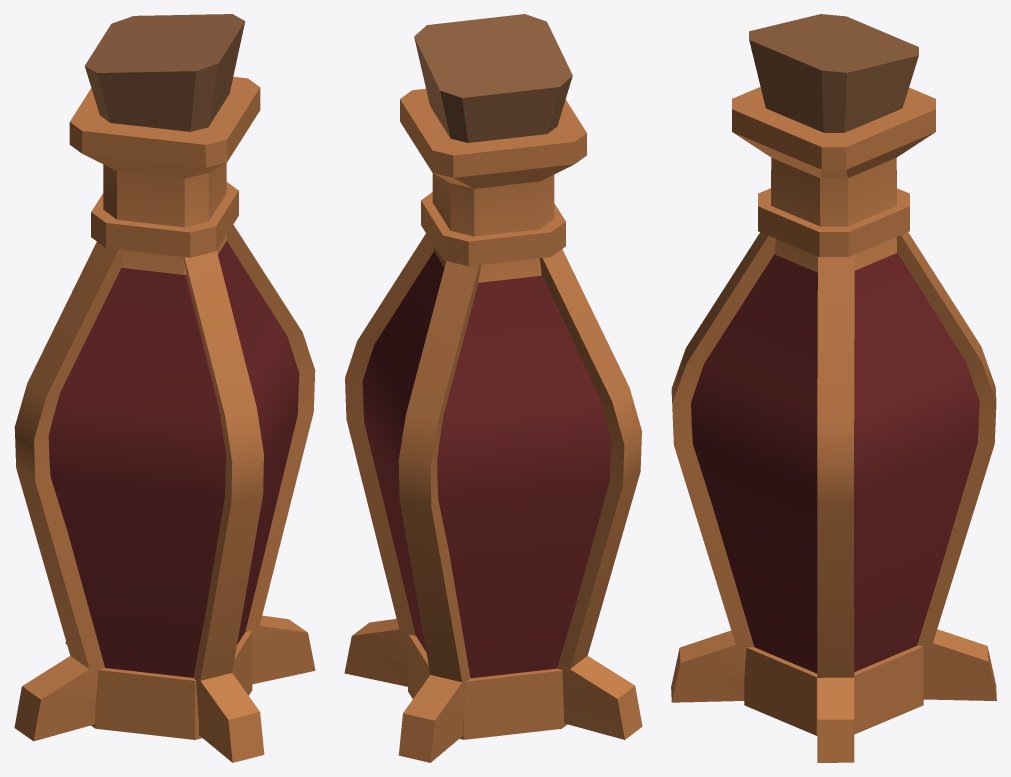
File: Potion_09.fbx
3 renders of one model, left to right at view 1: azimuth 30°, elevation 25°; view 2: azimuth 150°, elevation 25°; view 3: azimuth 270°, elevation 25°, orthographic.
Visible parts, largest first — view 1: Potion_09, Potion_09_Top; view 2: Potion_09, Potion_09_Top; view 3: Potion_09, Potion_09_Top.
Boxes of the visible parts, bbox=[...] form: Potion_09: bbox=[14, 76, 315, 762]; Potion_09_Top: bbox=[85, 14, 245, 131]; Potion_09: bbox=[344, 88, 642, 762]; Potion_09_Top: bbox=[414, 14, 572, 142]; Potion_09: bbox=[671, 87, 996, 762]; Potion_09_Top: bbox=[749, 14, 918, 132].
Size of the model in its own units: 0.1462 by 0.3284 by 0.1462.
